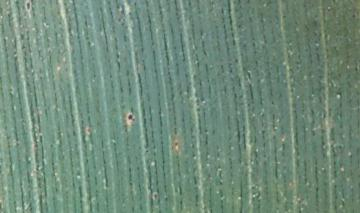tarspot: (123, 108, 136, 128), (171, 136, 182, 154), (150, 189, 160, 204), (23, 1, 33, 14), (85, 125, 92, 138)
